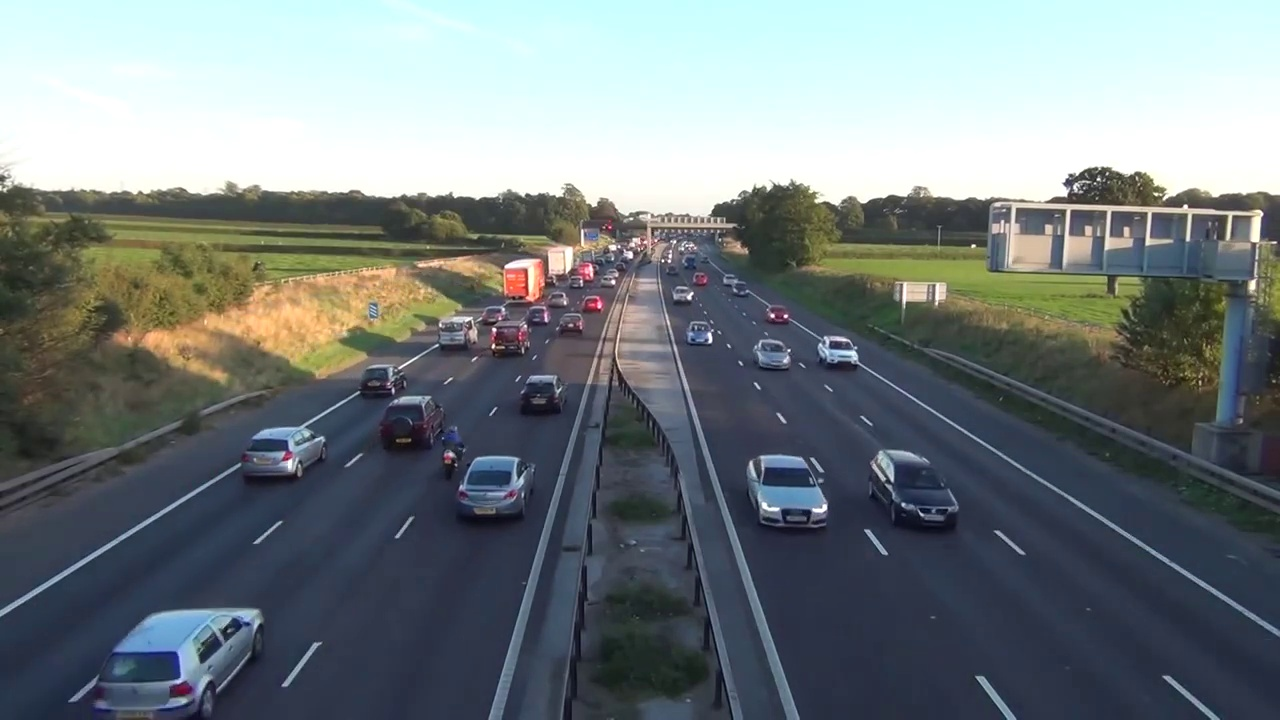bus: (85, 592, 272, 710), (867, 442, 973, 530), (744, 452, 832, 532), (233, 414, 328, 478), (452, 453, 535, 524), (374, 393, 444, 454), (520, 373, 565, 415), (814, 331, 860, 369), (751, 339, 793, 372), (359, 367, 408, 394), (684, 321, 719, 348), (525, 305, 556, 325), (483, 304, 510, 326), (559, 312, 587, 333), (766, 305, 792, 326), (547, 291, 570, 309), (671, 286, 694, 304), (582, 294, 604, 311), (732, 281, 751, 298), (720, 274, 740, 288), (600, 274, 617, 288), (692, 273, 707, 287), (544, 275, 559, 288), (567, 276, 582, 288), (665, 265, 679, 277), (606, 269, 618, 279), (615, 263, 626, 271), (593, 265, 601, 276)
car: (501, 257, 544, 301), (547, 245, 574, 280)
jeep: (435, 418, 472, 480)
lorry: (437, 316, 481, 352), (489, 321, 534, 354), (574, 257, 581, 270)
minibus: (575, 263, 596, 282), (682, 254, 699, 269)
